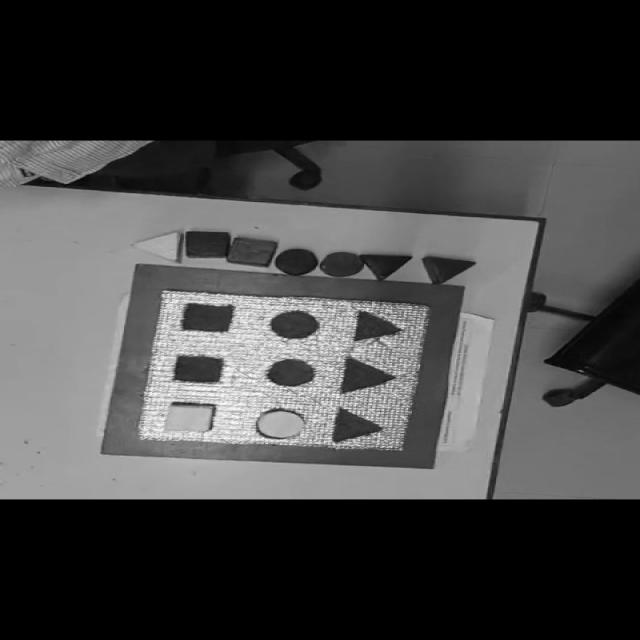bcircle: (274, 248, 317, 276)
bcube: (184, 230, 231, 258)
btriangle: (362, 254, 412, 281)
mtcircle: (266, 358, 315, 386), (270, 310, 319, 338)
mtcube: (181, 302, 236, 332), (172, 355, 226, 383)
mttriangle: (339, 356, 398, 394), (331, 407, 383, 443), (352, 309, 404, 342)
rcube: (226, 237, 277, 267), (319, 252, 362, 277)
rtriangle: (425, 256, 476, 284)
wb: (139, 290, 429, 452)
ycircle: (255, 407, 308, 439)
ycube: (163, 402, 214, 433)
ytriangle: (131, 231, 182, 262)
